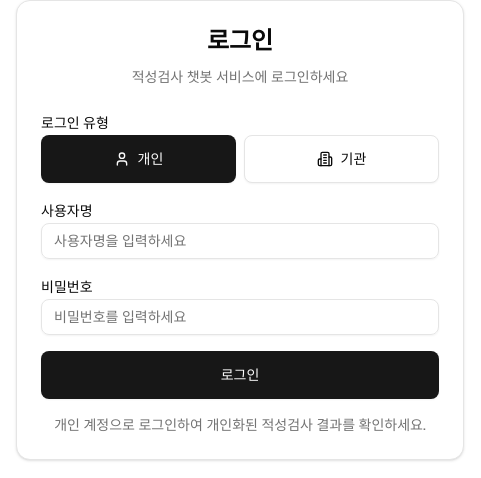
Test: LoginForm › switches between personal and organization login types
The image size is (481, 478).
Expected: the field labelled "사용자명" is shown, [41, 223, 439, 259]
Note: Click organization button
What coordinates should you click on to do the following:
click the button "기관"
I would click on:
 (342, 159)
Its box is [244, 135, 439, 183].
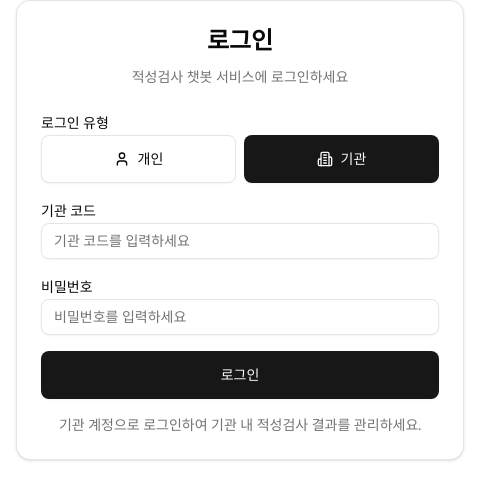
Expected: the field labelled "기관 코드" is shown, [41, 223, 439, 259]
